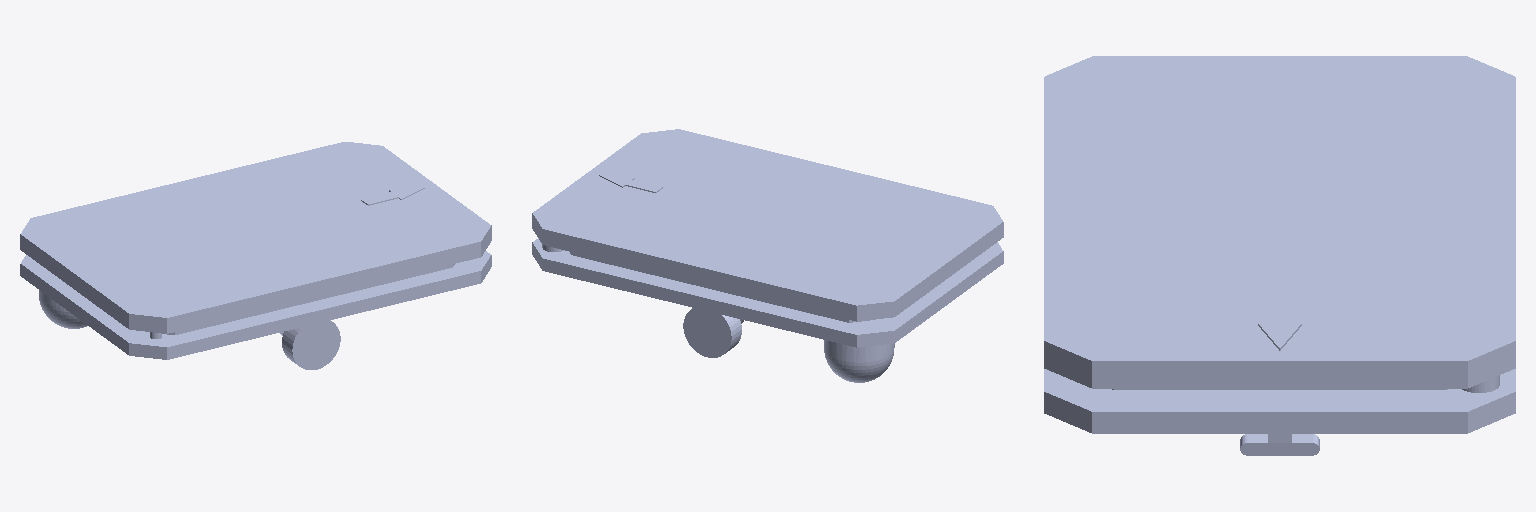
robot.urdf — amrurdf:
<?xml version="1.0" encoding="utf-8"?>
<!-- This URDF was automatically created by SolidWorks to URDF Exporter! Originally created by [author] ([email redacted]) 
     Commit Version: 1.6.0-1-g15f4949  Build Version: 1.6.7594.29634
     For more information, please see http://wiki.ros.org/sw_urdf_exporter -->
<robot
  name="amrurdf">
   <!--BASE FOOTPRINT-->
   <link name="base_link" />

  <link
    name="chassis">
    <inertial>
      <origin
        xyz="0.00018647 1.7238E-16 0.081889"
        rpy="0 0 0" />
      <mass
        value="221.87" />
      <inertia
        ixx="16.747"
        ixy="9.2541E-16"
        ixz="-0.0021388"
        iyy="37.975"
        iyz="8.9554E-16"
        izz="53.514" />
    </inertial>
    <visual>
      <origin
        xyz="0 0 0"
        rpy="0 0 0" />
      <geometry>
        <mesh
          filename="package://amrurdf/meshes/chassis.STL" />
      </geometry>
      <material
        name="">
        <color
          rgba="0.79216 0.81961 0.93333 1" />
      </material>
    </visual>
    <collision>
      <origin
        xyz="0 0 0"
        rpy="0 0 0" />
      <geometry>
        <mesh
          filename="package://amrurdf/meshes/chassis.STL" />
      </geometry>
    </collision>
  </link>

  <!--========================================== BASE JOINT ==========================================-->
  <joint name="base_joint" type="fixed">
    <origin xyz="0 0 0.2122" rpy="0 0 0" />
    <parent link="base_link" />
    <child link="chassis" />
    <axis xyz="0 0 0" />
  </joint>

  <link
    name="left_wheel">
    <inertial>
      <origin
        xyz="1.69E-18 -0.0044118 1.3878E-17"
        rpy="0 0 0" />
      <mass
        value="2.5035" />
      <inertia
        ixx="0.0078666"
        ixy="5.8713E-19"
        ixz="1.876E-19"
        iyy="0.011827"
        iyz="4.3673E-21"
        izz="0.0078666" />
    </inertial>
    <visual>
      <origin
        xyz="0 0 0"
        rpy="0 0 0" />
      <geometry>
        <mesh
          filename="package://amrurdf/meshes/left_wheel.STL" />
      </geometry>
      <material
        name="">
        <color
          rgba="0.79216 0.81961 0.93333 1" />
      </material>
    </visual>
    <collision>
      <origin
        xyz="0 0 0"
        rpy="0 0 0" />
      <geometry>
        <mesh
          filename="package://amrurdf/meshes/left_wheel.STL" />
      </geometry>
    </collision>
  </link>
  <joint
    name="left_wheel_joint"
    type="continuous">
    <origin
      xyz="0 0.396 -0.1122"
      rpy="0 0 0" />
    <parent
      link="chassis" />
    <child
      link="left_wheel" />
    <axis
      xyz="0 1 0" />
  </joint>
  <link
    name="right_wheel">
    <inertial>
      <origin
        xyz="1.8631E-18 0.0044118 1.3878E-17"
        rpy="0 0 0" />
      <mass
        value="2.5035" />
      <inertia
        ixx="0.0078666"
        ixy="-5.5234E-19"
        ixz="2.295E-35"
        iyy="0.011827"
        iyz="-1.6145E-35"
        izz="0.0078666" />
    </inertial>
    <visual>
      <origin
        xyz="0 0 0"
        rpy="0 0 0" />
      <geometry>
        <mesh
          filename="package://amrurdf/meshes/right_wheel.STL" />
      </geometry>
      <material
        name="">
        <color
          rgba="0.79216 0.81961 0.93333 1" />
      </material>
    </visual>
    <collision>
      <origin
        xyz="0 0 0"
        rpy="0 0 0" />
      <geometry>
        <mesh
          filename="package://amrurdf/meshes/right_wheel.STL" />
      </geometry>
    </collision>
  </link>
  <joint
    name="right_wheel_joint"
    type="continuous">
    <origin
      xyz="0 -0.396 -0.1122"
      rpy="0 0 0" />
    <parent
      link="chassis" />
    <child
      link="right_wheel" />
    <axis
      xyz="0 1 0" />
  </joint>
  <link
    name="imu">
    <inertial>
      <origin
        xyz="1.8078E-18 1.1975E-17 0"
        rpy="0 0 0" />
      <mass
        value="0.09" />
      <inertia
        ixx="3.375E-05"
        ixy="-3.0971E-21"
        ixz="-4.2352E-22"
        iyy="2.55E-05"
        iyz="-4.7167E-22"
        izz="4.575E-05" />
    </inertial>
    <visual>
      <origin
        xyz="0 0 0"
        rpy="0 0 0" />
      <geometry>
        <mesh
          filename="package://amrurdf/meshes/imu.STL" />
      </geometry>
      <material
        name="">
        <color
          rgba="0.79216 0.81961 0.93333 1" />
      </material>
    </visual>
    <collision>
      <origin
        xyz="0 0 0"
        rpy="0 0 0" />
      <geometry>
        <mesh
          filename="package://amrurdf/meshes/imu.STL" />
      </geometry>
    </collision>
  </link>
  <joint
    name="imu_joint"
    type="fixed">
    <origin
     xyz="0 0 0.0636" rpy="0 0 0" />   <!-- xyz="0 0 -0.015" rpy="0 0 0" />    -->  
    <parent
      link="chassis" />
    <child
      link="imu" />
    <axis
      xyz="0 0 0" />
  </joint>
  <link
    name="laser_link">
    <inertial>
      <origin
        xyz="-1.1102E-16 -5.5511E-17 0"
        rpy="0 0 0" />
      <mass
        value="0.22538" />
      <inertia
        ixx="0.00013246"
        ixy="0"
        ixz="-4.6478E-21"
        iyy="0.00013246"
        iyz="-1.5493E-21"
        izz="0.00020837" />
    </inertial>
    <visual>
      <origin
        xyz="0 0 0"
        rpy="0 0 0" />
      <geometry>
        <mesh
          filename="package://amrurdf/meshes/lidar.STL" />
      </geometry>
      <material
        name="">
        <color
          rgba="0.79216 0.81961 0.93333 1" />
      </material>
    </visual>
    <collision>
      <origin
        xyz="0 0 0"
        rpy="0 0 0" />
      <geometry>
        <mesh
          filename="package://amrurdf/meshes/lidar.STL" />
      </geometry>
    </collision>
  </link>
  <joint
    name="laser_joint"
    type="fixed">
    <origin
      xyz="0.64432 0.41352 0.0836"
      rpy="3.14 0 0.7954" />
    <parent
      link="chassis" />
    <child
      link="laser_link" />
    <axis
      xyz="0 0 0" />
  </joint>
  <link
    name="sensor">
    <inertial>
      <origin
        xyz="0 -3.3307E-16 0"
        rpy="0 0 0" />
      <mass
        value="0.059164" />
      <inertia
        ixx="1.4311E-05"
        ixy="0"
        ixz="-5.5702E-22"
        iyy="1.4311E-05"
        iyz="1.8567E-22"
        izz="1.4976E-05" />
    </inertial>
    <visual>
      <origin
        xyz="0 0 0"
        rpy="0 0 0" />
      <geometry>
        <mesh
          filename="package://amrurdf/meshes/sensor.STL" />
      </geometry>
      <material
        name="">
        <color
          rgba="0.79216 0.81961 0.93333 1" />
      </material>
    </visual>
    <collision>
      <origin
        xyz="0 0 0"
        rpy="0 0 0" />
      <geometry>
        <mesh
          filename="package://amrurdf/meshes/sensor.STL" />
      </geometry>
    </collision>
  </link>
  <joint
    name="sensor_joint"
    type="fixed">
    <origin
      xyz="-0.65598 -0.41995 0.0844"
      rpy="3.14 0 -2.3562" />
    <parent
      link="chassis" />
    <child
      link="sensor" />
    <axis
      xyz="0 0 0" />
  </joint>
  <link
    name="camera_link">
    <inertial>
      <origin
        xyz="-6.1321E-05 -7.6614E-18 -6.5648E-05"
        rpy="0 0 0" />
      <mass
        value="0.18939" />
      <inertia
        ixx="0.00041413"
        ixy="4.9425E-21"
        ixz="1.6485E-07"
        iyy="3.8773E-05"
        iyz="-6.7477E-21"
        izz="0.00042578" />
    </inertial>
    <visual>
      <origin
        xyz="0 0 0"
        rpy="0 0 0" />
      <geometry>
        <mesh
          filename="package://amrurdf/meshes/camera.STL" />
      </geometry>
      <material
        name="">
        <color
          rgba="0.79216 0.81961 0.93333 1" />
      </material>
    </visual>
    <collision>
      <origin
        xyz="0 0 0"
        rpy="0 0 0" />
      <geometry>
        <mesh
          filename="package://amrurdf/meshes/camera.STL" />
      </geometry>
    </collision>
  </link>
  <joint
    name="camera_joint"
    type="fixed">
    <origin
      xyz="0.72964 0 -0.034177"
      rpy="0 0.05236 0" />
    <parent
      link="chassis" />
    <child
      link="camera_link" />
    <axis
      xyz="0 0 0" />
  </joint>
  <link
    name="caster_front_left">
    <inertial>
      <origin
        xyz="0 0 0.061452"
        rpy="0 0 0" />
      <mass
        value="8.5066" />
      <inertia
        ixx="0.054476"
        ixy="4.8189E-35"
        ixz="1.0741E-34"
        iyy="0.054476"
        iyz="-2.4825E-18"
        izz="0.060995" />
    </inertial>
    <visual>
      <origin
        xyz="0 0 0"
        rpy="0 0 0" />
      <geometry>
        <mesh
          filename="package://amrurdf/meshes/caster_front_left.STL" />
      </geometry>
      <material
        name="">
        <color
          rgba="0.79216 0.81961 0.93333 1" />
      </material>
    </visual>
    <collision>
      <origin
        xyz="0 0 0"
        rpy="0 0 0" />
      <geometry>
        <mesh
          filename="package://amrurdf/meshes/caster_front_left.STL" />
      </geometry>
    </collision>
  </link>
  <joint
    name="caster_front_left_joint"
    type="fixed">
    <origin
      xyz="0.565 0.325 -0.14913"
      rpy="0 0 0" />
    <parent
      link="chassis" />
    <child
      link="caster_front_left" />
    <axis
      xyz="0 0 0" />
  </joint>
  <link
    name="caster_back_left">
    <inertial>
      <origin
        xyz="0 0 0.061452"
        rpy="0 0 0" />
      <mass
        value="8.5066" />
      <inertia
        ixx="0.054476"
        ixy="4.8189E-35"
        ixz="1.0741E-34"
        iyy="0.054476"
        iyz="-2.4825E-18"
        izz="0.060995" />
    </inertial>
    <visual>
      <origin
        xyz="0 0 0"
        rpy="0 0 0" />
      <geometry>
        <mesh
          filename="package://amrurdf/meshes/caster_back_left.STL" />
      </geometry>
      <material
        name="">
        <color
          rgba="0.79216 0.81961 0.93333 1" />
      </material>
    </visual>
    <collision>
      <origin
        xyz="0 0 0"
        rpy="0 0 0" />
      <geometry>
        <mesh
          filename="package://amrurdf/meshes/caster_back_left.STL" />
      </geometry>
    </collision>
  </link>
  <joint
    name="caster_back_left_joint"
    type="fixed">
    <origin
      xyz="-0.565 0.325 -0.14913"
      rpy="0 0 0" />
    <parent
      link="chassis" />
    <child
      link="caster_back_left" />
    <axis
      xyz="0 0 0" />
  </joint>
  <link
    name="caster_front_right">
    <inertial>
      <origin
        xyz="0 0 0.061452"
        rpy="0 0 0" />
      <mass
        value="8.5066" />
      <inertia
        ixx="0.054476"
        ixy="4.8189E-35"
        ixz="1.0741E-34"
        iyy="0.054476"
        iyz="-2.4825E-18"
        izz="0.060995" />
    </inertial>
    <visual>
      <origin
        xyz="0 0 0"
        rpy="0 0 0" />
      <geometry>
        <mesh
          filename="package://amrurdf/meshes/caster_front_right.STL" />
      </geometry>
      <material
        name="">
        <color
          rgba="0.79216 0.81961 0.93333 1" />
      </material>
    </visual>
    <collision>
      <origin
        xyz="0 0 0"
        rpy="0 0 0" />
      <geometry>
        <mesh
          filename="package://amrurdf/meshes/caster_front_right.STL" />
      </geometry>
    </collision>
  </link>
  <joint
    name="caster_front_right_joint"
    type="fixed">
    <origin
      xyz="0.565 -0.325 -0.14913"
      rpy="0 0 0" />
    <parent
      link="chassis" />
    <child
      link="caster_front_right" />
    <axis
      xyz="0 0 0" />
  </joint>
  <link
    name="caster_back_right">
    <inertial>
      <origin
        xyz="0 0 0.061452"
        rpy="0 0 0" />
      <mass
        value="8.5066" />
      <inertia
        ixx="0.054476"
        ixy="4.8189E-35"
        ixz="1.0741E-34"
        iyy="0.054476"
        iyz="-2.4825E-18"
        izz="0.060995" />
    </inertial>
    <visual>
      <origin
        xyz="0 0 0"
        rpy="0 0 0" />
      <geometry>
        <mesh
          filename="package://amrurdf/meshes/caster_back_right.STL" />
      </geometry>
      <material
        name="">
        <color
          rgba="0.79216 0.81961 0.93333 1" />
      </material>
    </visual>
    <collision>
      <origin
        xyz="0 0 0"
        rpy="0 0 0" />
      <geometry>
        <mesh
          filename="package://amrurdf/meshes/caster_back_right.STL" />
      </geometry>
    </collision>
  </link>
  <joint
    name="caster_back_right_joint"
    type="fixed">
    <origin
      xyz="-0.565 -0.325 -0.14913"
      rpy="0 0 0" />
    <parent
      link="chassis" />
    <child
      link="caster_back_right" />
    <axis
      xyz="0 0 0" />
  </joint>
</robot>

--- Render facts (derived) ---
Views: 3 orthographic renders of the robot side by side, from view 1: azimuth 30°, elevation 25°; view 2: azimuth 150°, elevation 25°; view 3: azimuth 270°, elevation 25°.
Robot: amrurdf — 12 links, 11 joints (2 continuous, 9 fixed); root link base_link; default pose: all joints at 0.
Links seen in each view (by area): view 1: chassis, right_wheel, caster_back_left; view 2: chassis, left_wheel, caster_back_left; view 3: chassis, camera_link.
Boxes of the visible links, <box> form: chassis: <box>20,142,491,359</box>; right_wheel: <box>282,320,340,369</box>; caster_back_left: <box>39,290,87,328</box>; chassis: <box>532,129,1003,347</box>; left_wheel: <box>683,308,741,357</box>; caster_back_left: <box>824,340,894,382</box>; chassis: <box>1044,56,1515,442</box>; camera_link: <box>1240,434,1319,455</box>.
Size in the robot's own frame: 1.5 by 0.9775 by 0.3832 metres.
8 mesh visuals loaded from 11 distinct referenced files (8 binary STL); not drawn: 3 (reference not matched to a file when rendering).
